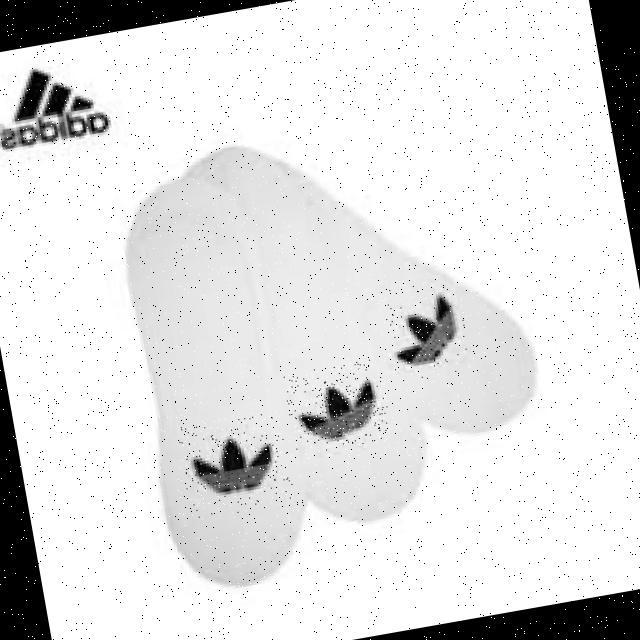Adidas: (176, 410, 296, 521), (282, 357, 395, 455), (378, 277, 475, 384)
